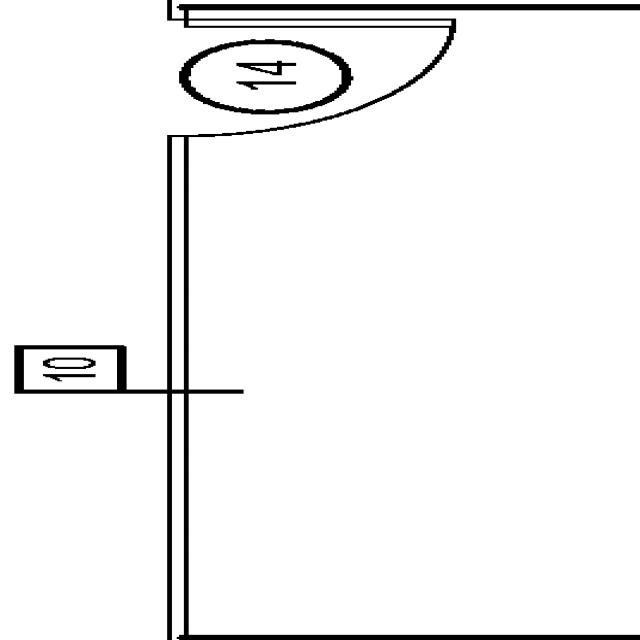Doors: (161, 17, 466, 143)
